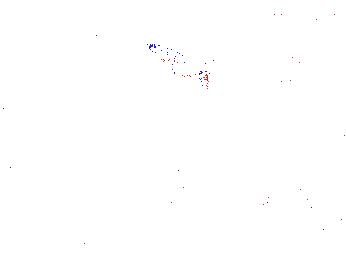glassfish: (153, 137, 188, 206), (111, 201, 178, 235)
redtail glassfish: (142, 42, 215, 88), (228, 1, 303, 26), (172, 53, 236, 81)
